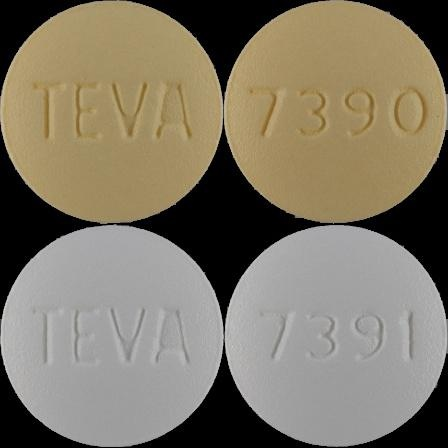0093-3099: (0, 0, 224, 224)
